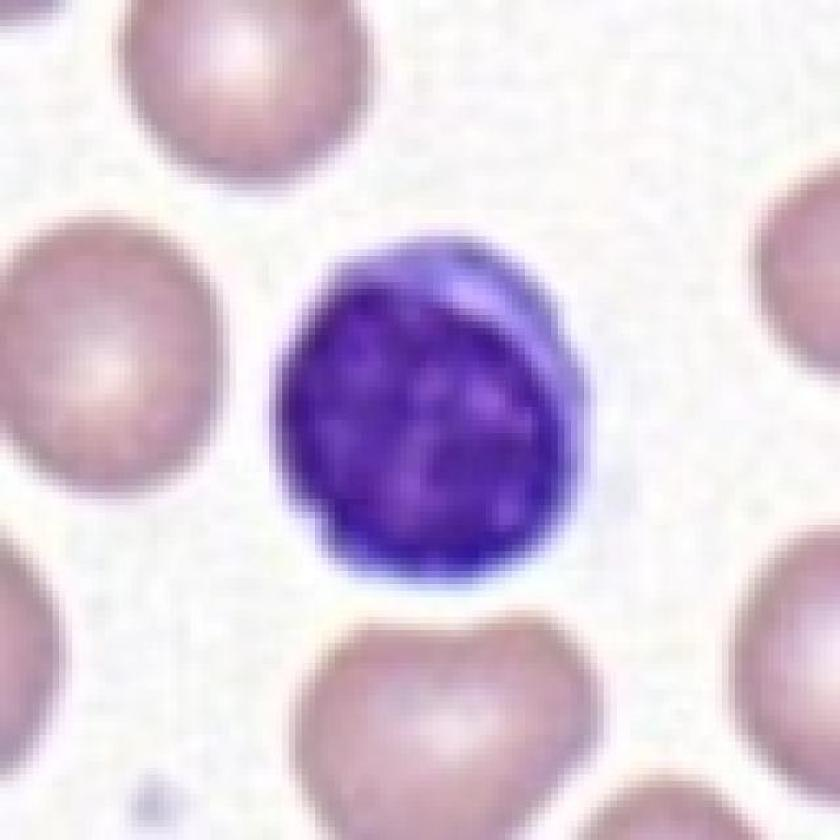lymphocyte: (268, 222, 596, 585)
